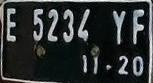clone-license-plate: (0, 0, 152, 81)
